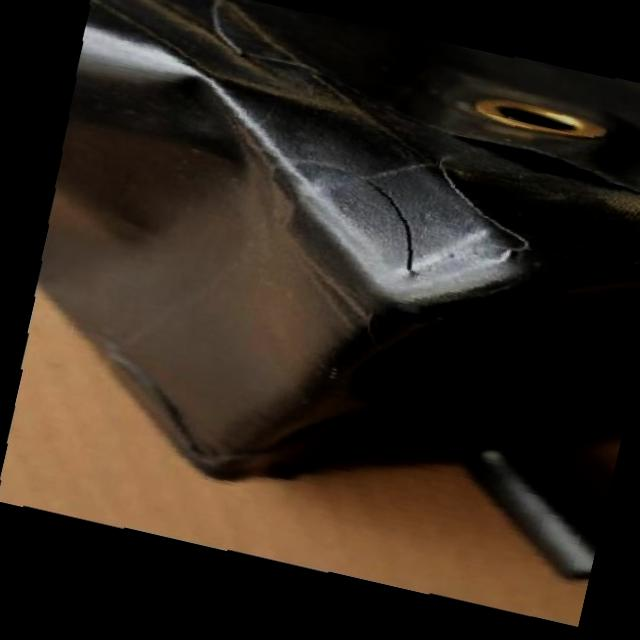crack: (336, 175, 480, 315)
